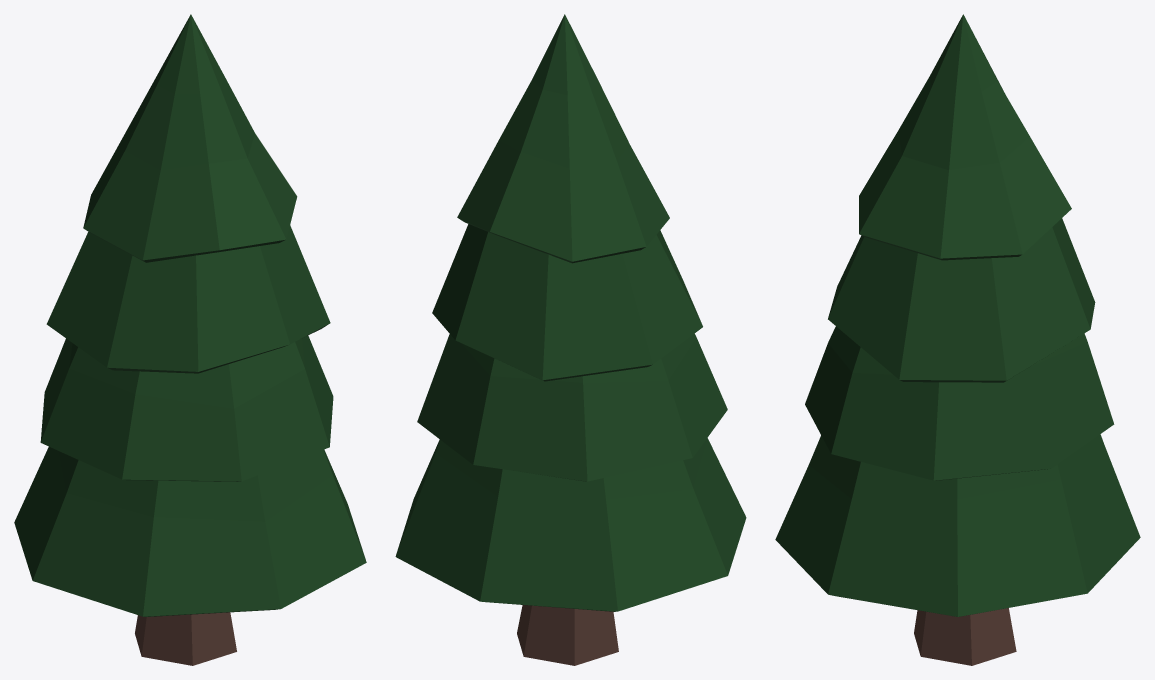
Rendered from PineTree(1).fbx.
The picture shows the model from 3 angles, left to right: view 1: azimuth 30°, elevation 25°; view 2: azimuth 150°, elevation 25°; view 3: azimuth 270°, elevation 25°; orthographic projection.
Parts seen in each view (by area): view 1: PineTree(1); view 2: PineTree(1); view 3: PineTree(1).
Part boxes in pixels (<box>): PineTree(1): <box>14,14,366,665</box>; PineTree(1): <box>395,14,746,665</box>; PineTree(1): <box>775,14,1140,665</box>.
Size of the model in its own units: 2.38 by 4.54 by 2.38.
